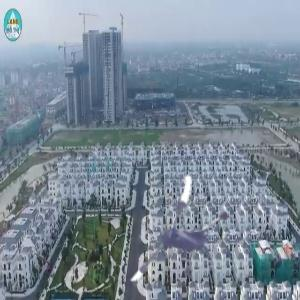drone: (122, 162, 253, 293)
